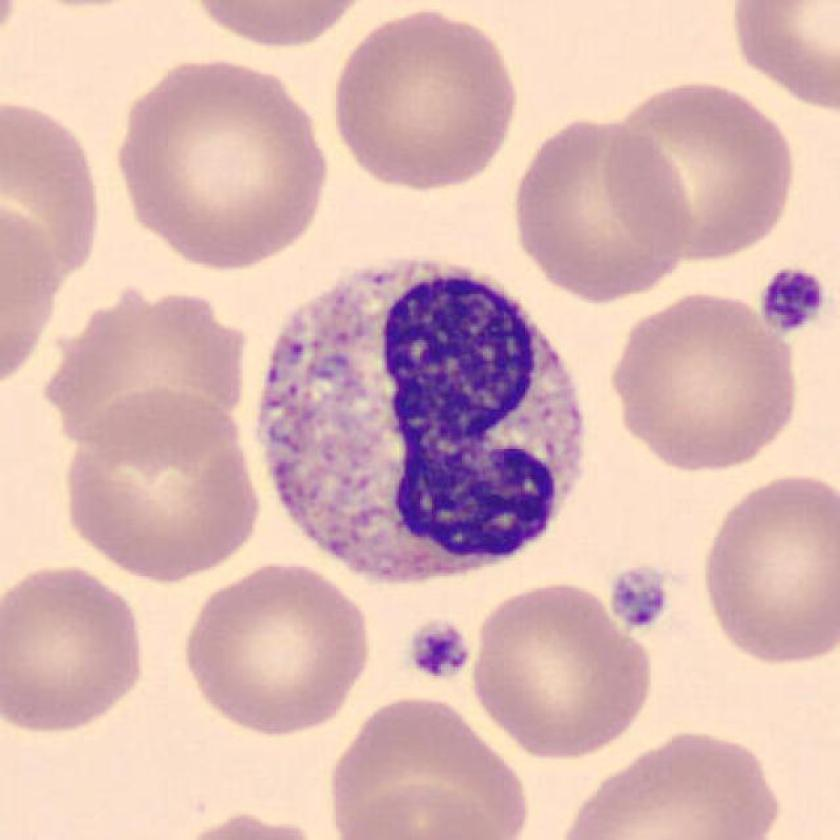neutrophil: (257, 256, 581, 580)
